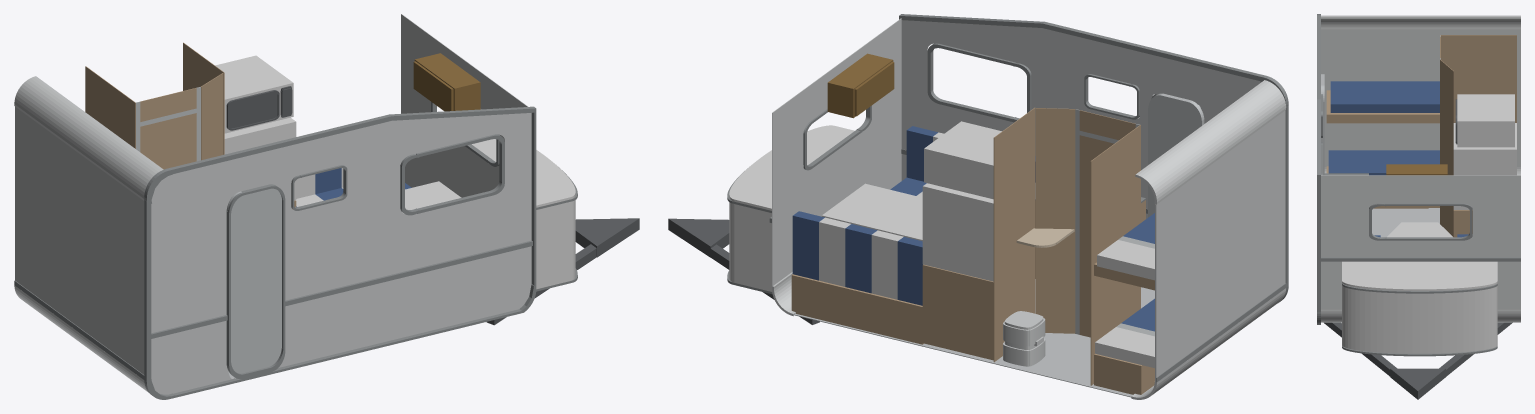
The model's file is VISTA INTERIOR 2.glb.
3 views of the same model, side by side, from view 1: azimuth 30°, elevation 25°; view 2: azimuth 150°, elevation 25°; view 3: azimuth 270°, elevation 25° (orthographic). The views are drawn at different scales.
Visible parts, largest first — view 1: Mesh_Mesh_head_geo.001_lambert2SG.001; view 2: Mesh_Mesh_head_geo.001_lambert2SG.001; view 3: Mesh_Mesh_head_geo.001_lambert2SG.001.
Boxes of the visible parts, x1=… form: Mesh_Mesh_head_geo.001_lambert2SG.001: x1=14, y1=14, x2=639, y2=399; Mesh_Mesh_head_geo.001_lambert2SG.001: x1=668, y1=14, x2=1288, y2=399; Mesh_Mesh_head_geo.001_lambert2SG.001: x1=1317, y1=14, x2=1520, y2=399.
Bounding box in the file's own units: 0.258 × 0.105 × 0.106.
